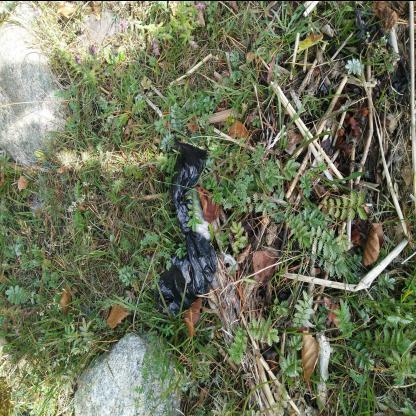plastik: (158, 143, 219, 321)
